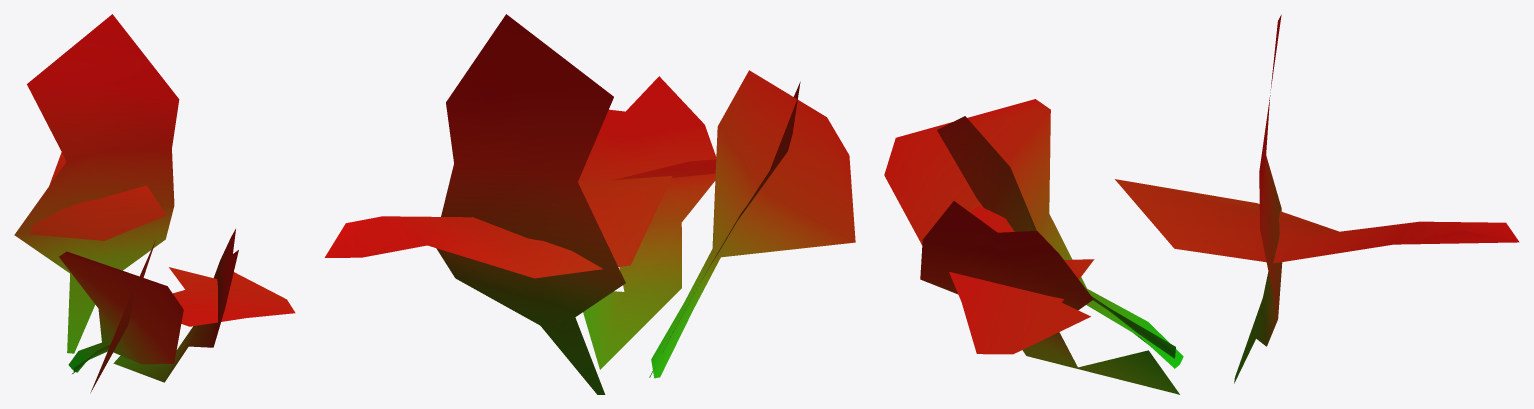
The model's file is Downy Willow_LOD4_Var12_wknlfiuqx.fbx.
The picture shows the model from 3 angles, left to right: view 1: azimuth 30°, elevation 25°; view 2: azimuth 150°, elevation 25°; view 3: azimuth 270°, elevation 25°; orthographic projection. The views are drawn at different scales.
Visible parts, largest first — view 1: _ksb4_Var12_LOD4; view 2: _ksb4_Var12_LOD4; view 3: _ksb4_Var12_LOD4.
Boxes of the visible parts, x1,y1,x2,y2 form: _ksb4_Var12_LOD4: (14, 14, 295, 393); _ksb4_Var12_LOD4: (324, 14, 855, 394); _ksb4_Var12_LOD4: (884, 14, 1519, 394).
Bounding box in the file's own units: 35.95 × 47.49 × 67.35.
